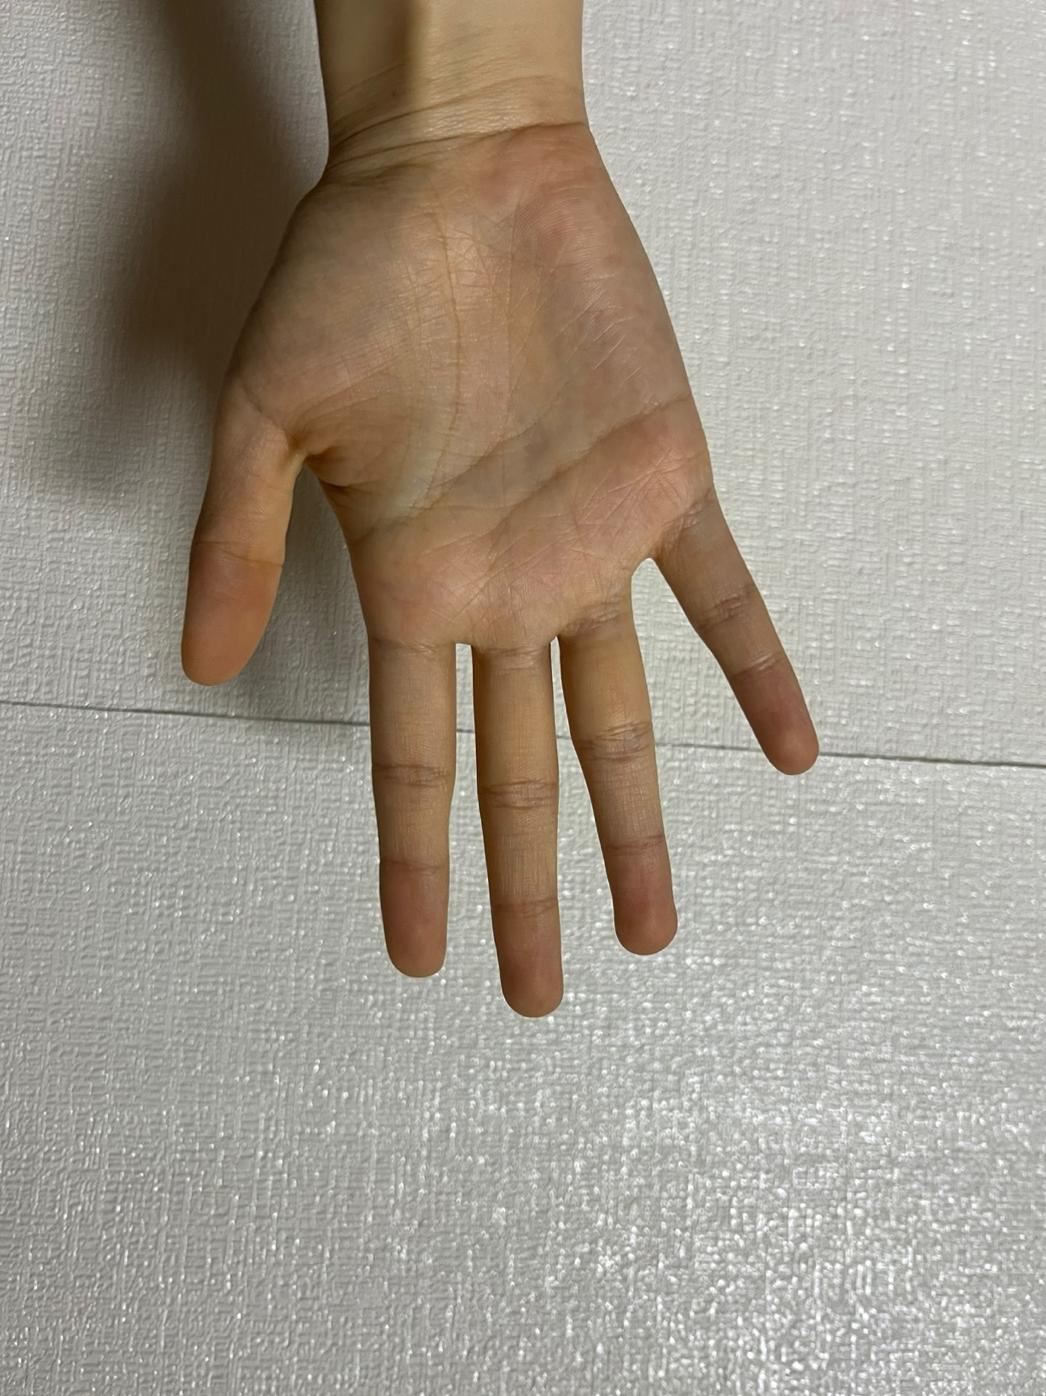open: (175, 65, 827, 1023)
